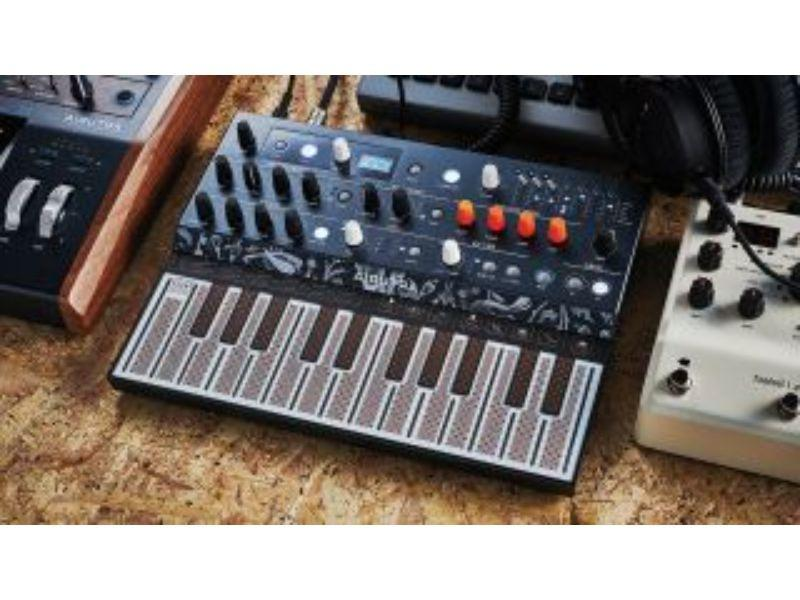synthesizer: (143, 112, 624, 478)
